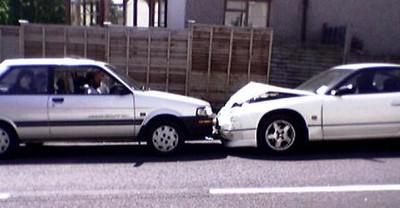bonnet-dent: (227, 80, 311, 101)
